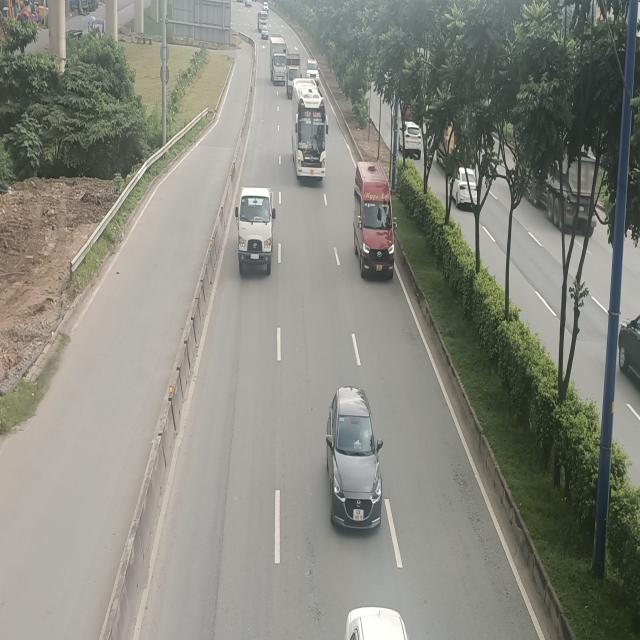car: (325, 387, 384, 530)
coach: (292, 78, 328, 181)
truck: (234, 184, 276, 277), (270, 36, 286, 87)
van: (353, 158, 395, 279)
